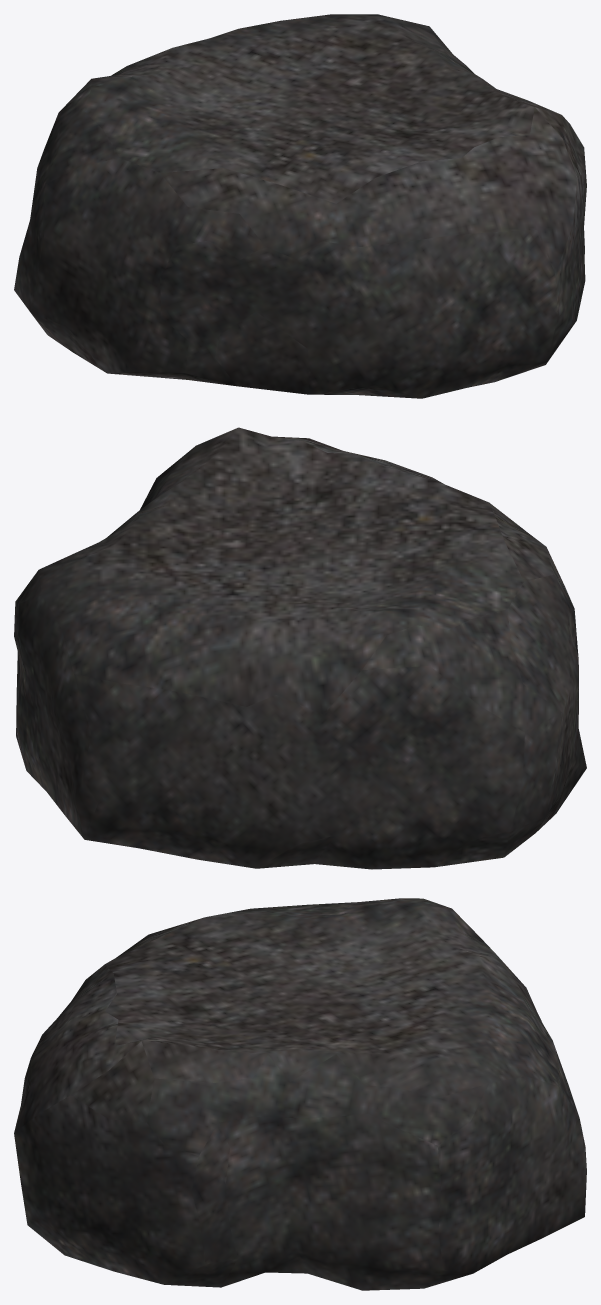
File: rock 4.glb
3 views of the same model, one above another, from view 1: azimuth 30°, elevation 25°; view 2: azimuth 150°, elevation 25°; view 3: azimuth 270°, elevation 25° (orthographic). The views are drawn at different scales.
Parts seen in each view (by area): view 1: AR04; view 2: AR04; view 3: AR04.
Boxes of the visible parts, x1,y1,x2,y2 form: AR04: (14, 14, 586, 398); AR04: (14, 427, 586, 869); AR04: (14, 898, 586, 1290).
Size of the model in its own units: 16.43 by 7.66 by 17.07.
Materials: 1 (1 with a texture image).
